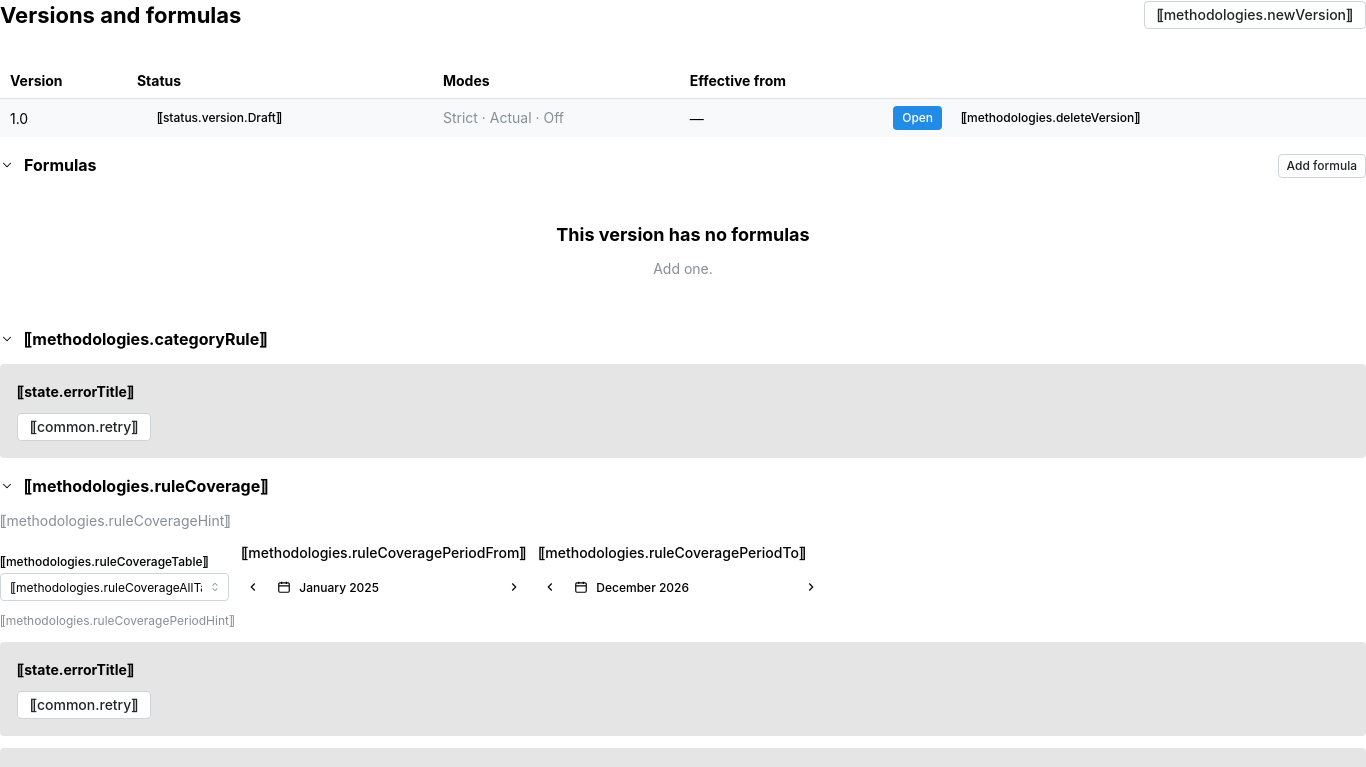
Test: MethodologyVersionsPage: синтаксична помилка виразу більше не зберігається мовчки (lane5) › коректний вираз не показує знахідок і дозволяє зберегти
Expected: the text "1.0" is shown, top-left (0, 99), bottom-right (127, 138)
Click the button "Add formula" at (1322, 166), box top-left (1278, 154), bottom-right (1365, 178)
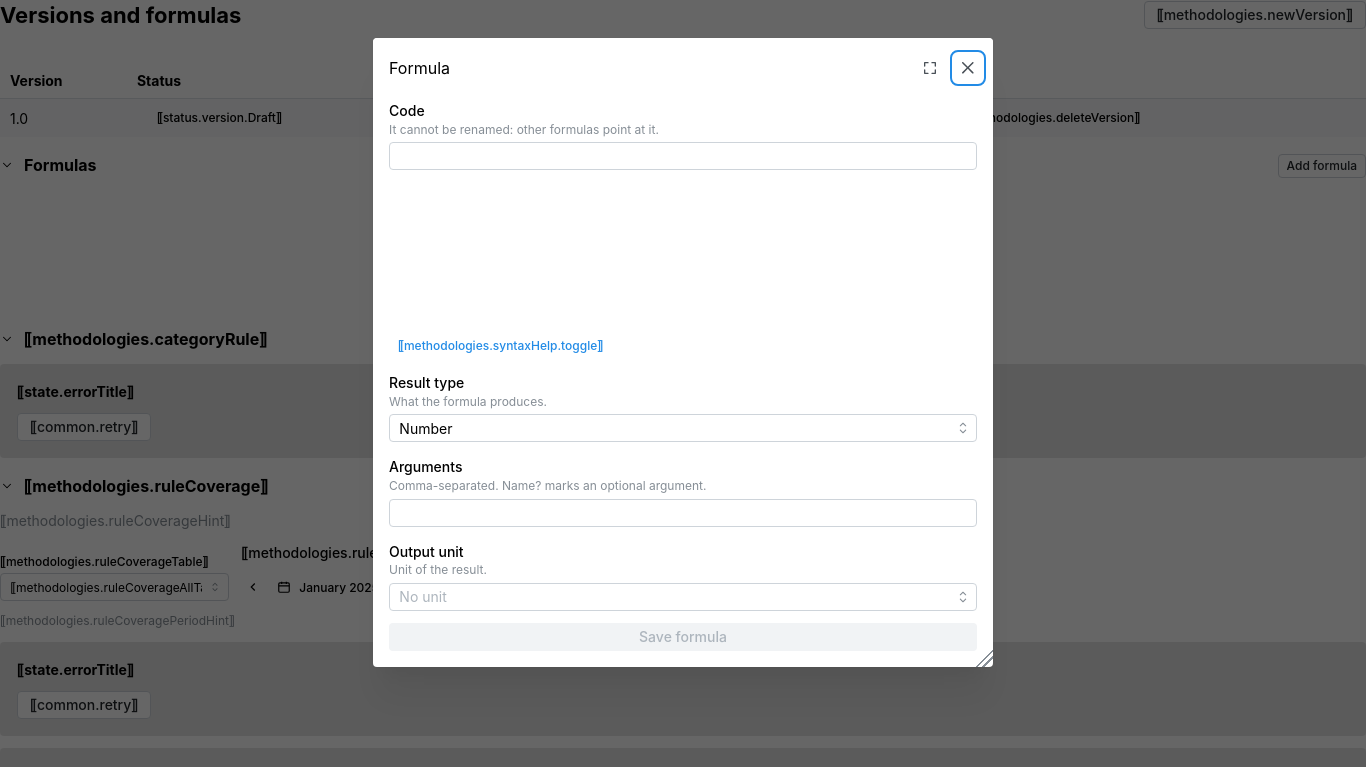
Type "LANE5_F2" into the field labelled "Code" at (683, 157), box top-left (389, 143), bottom-right (977, 171)
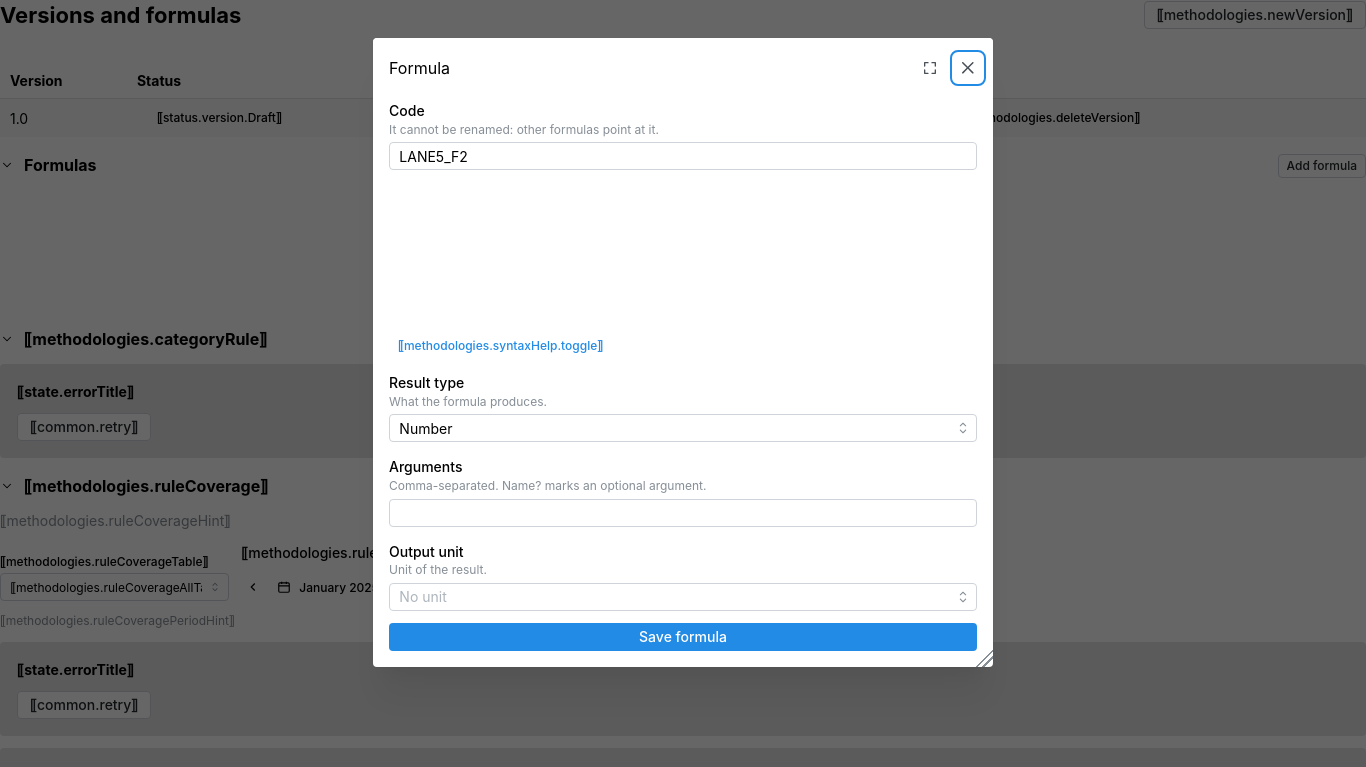
Expected: the button "Save formula" is enabled, top-left (389, 623), bottom-right (977, 651)
